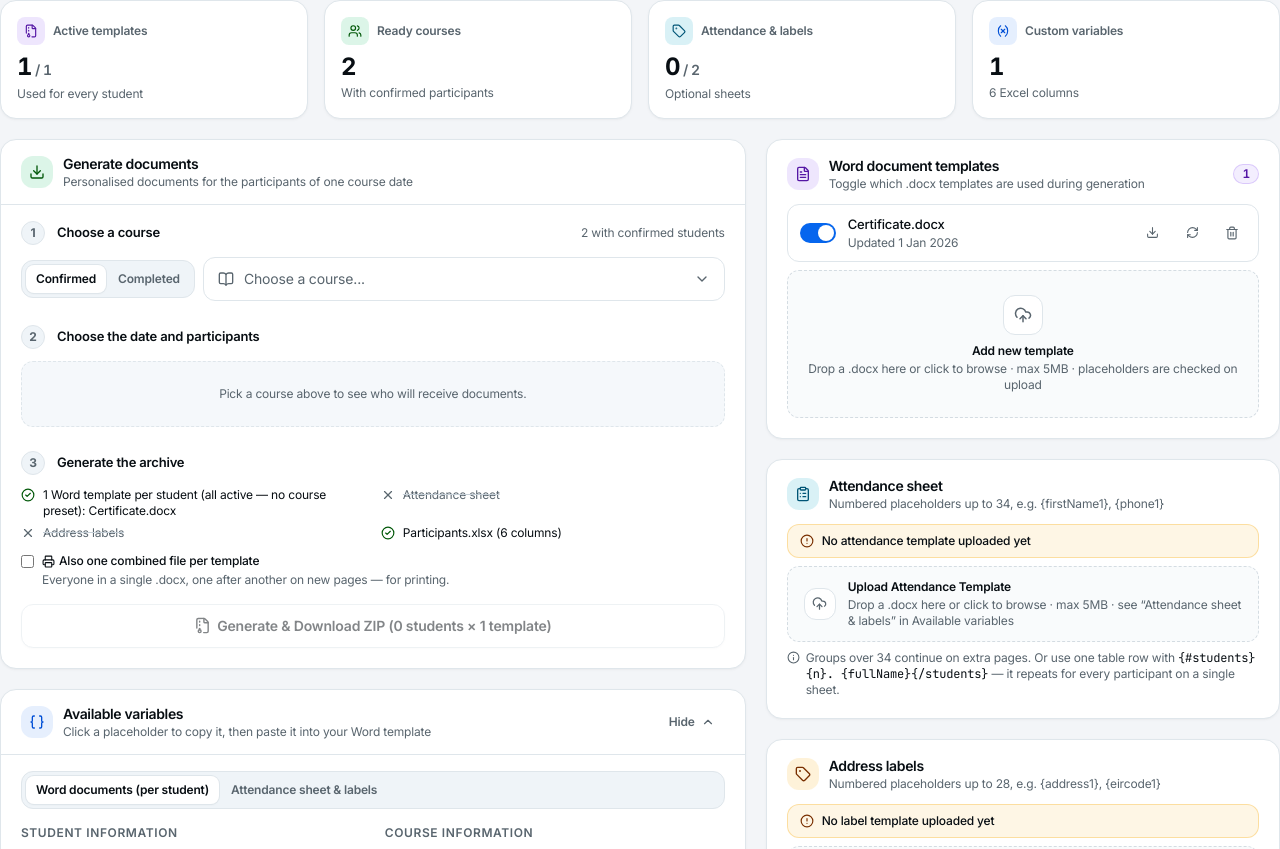
Test: DocumentGenerator › finds a course by typing and picks it with the keyboard
This screenshot has width=1280, height=849.
Click the button "Choose a course...".
click(304, 278)  # box [203,257,725,301]
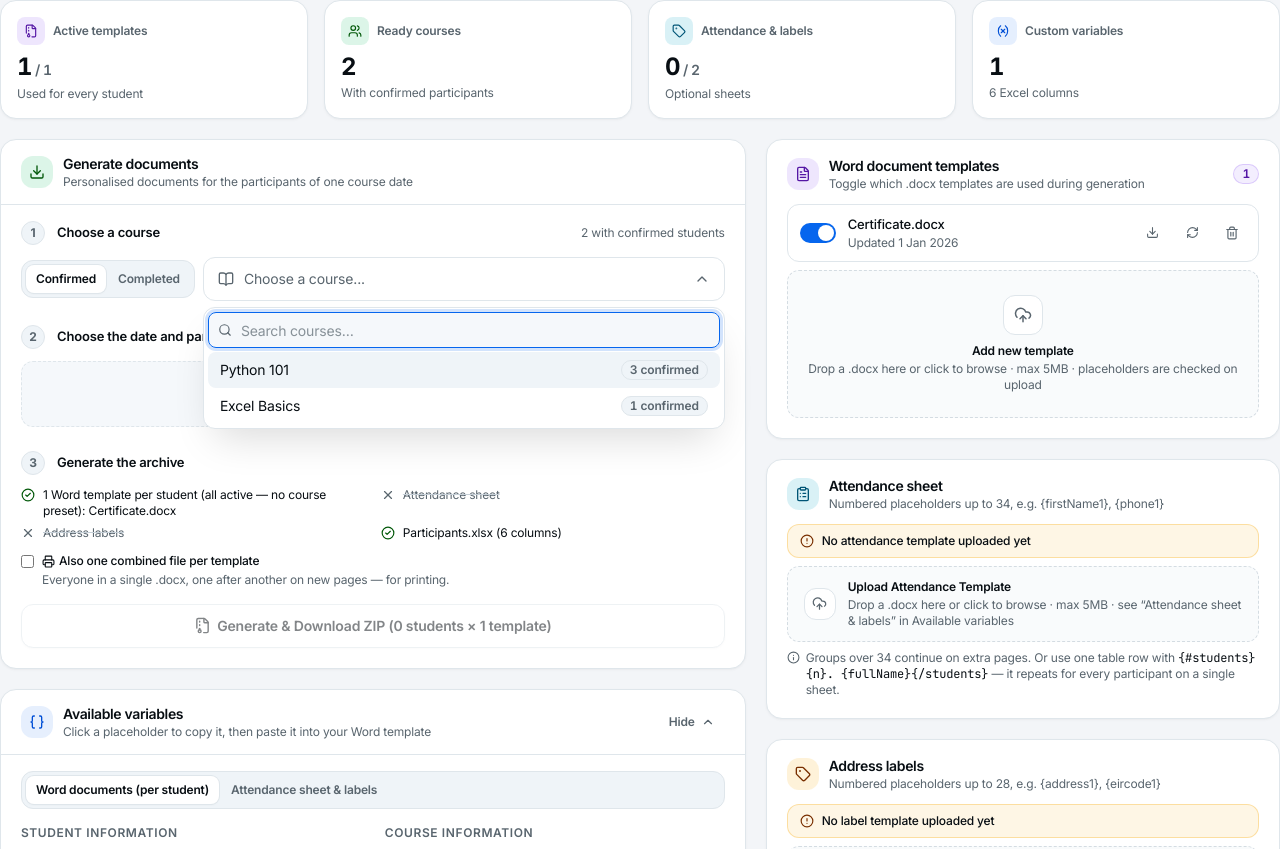
Type "excel" into the dropdown labelled "Search courses".
click(464, 330); type("excel")  # box [208,312,720,348]
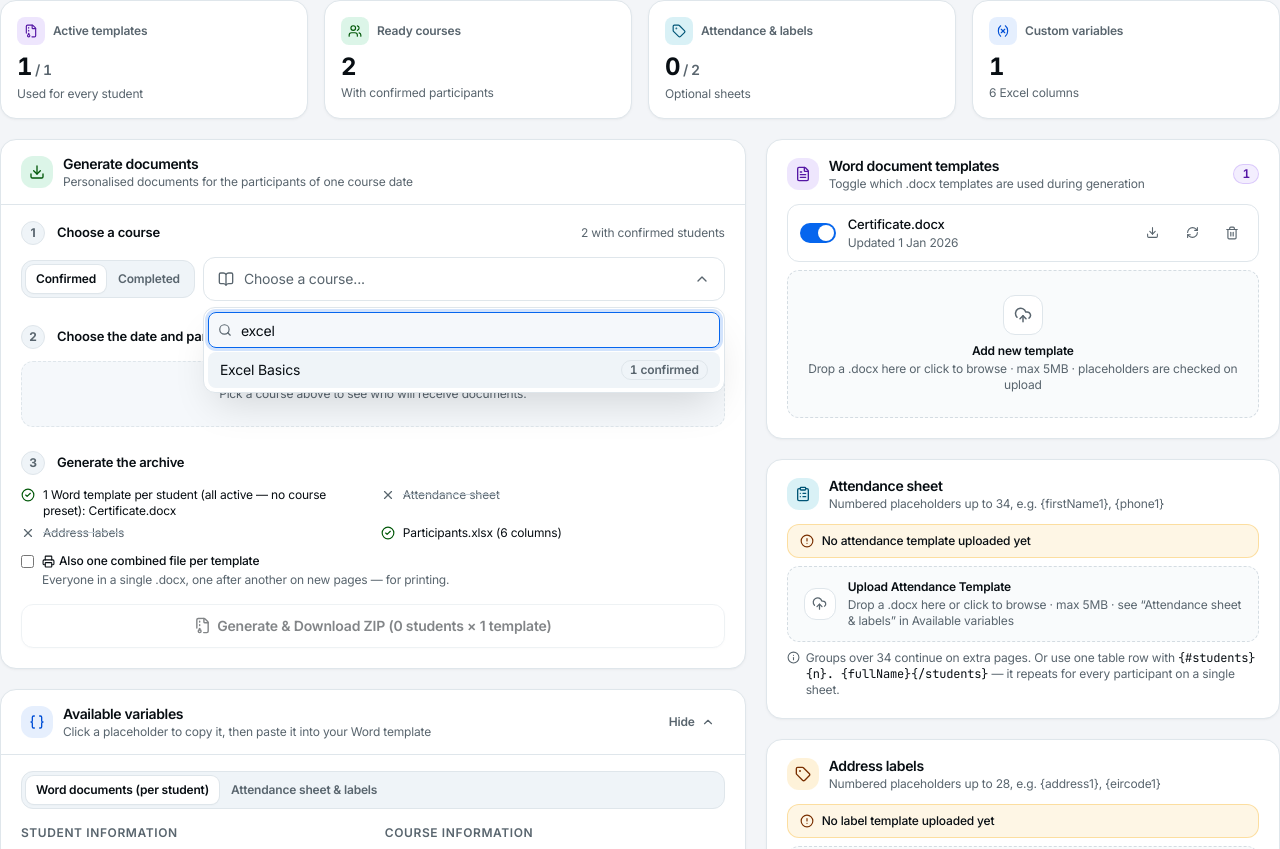
expect the number of options is 1: met, box [208,352,720,388]
Press Enter in the dropdown named "Search courses", box [208,312,720,348]
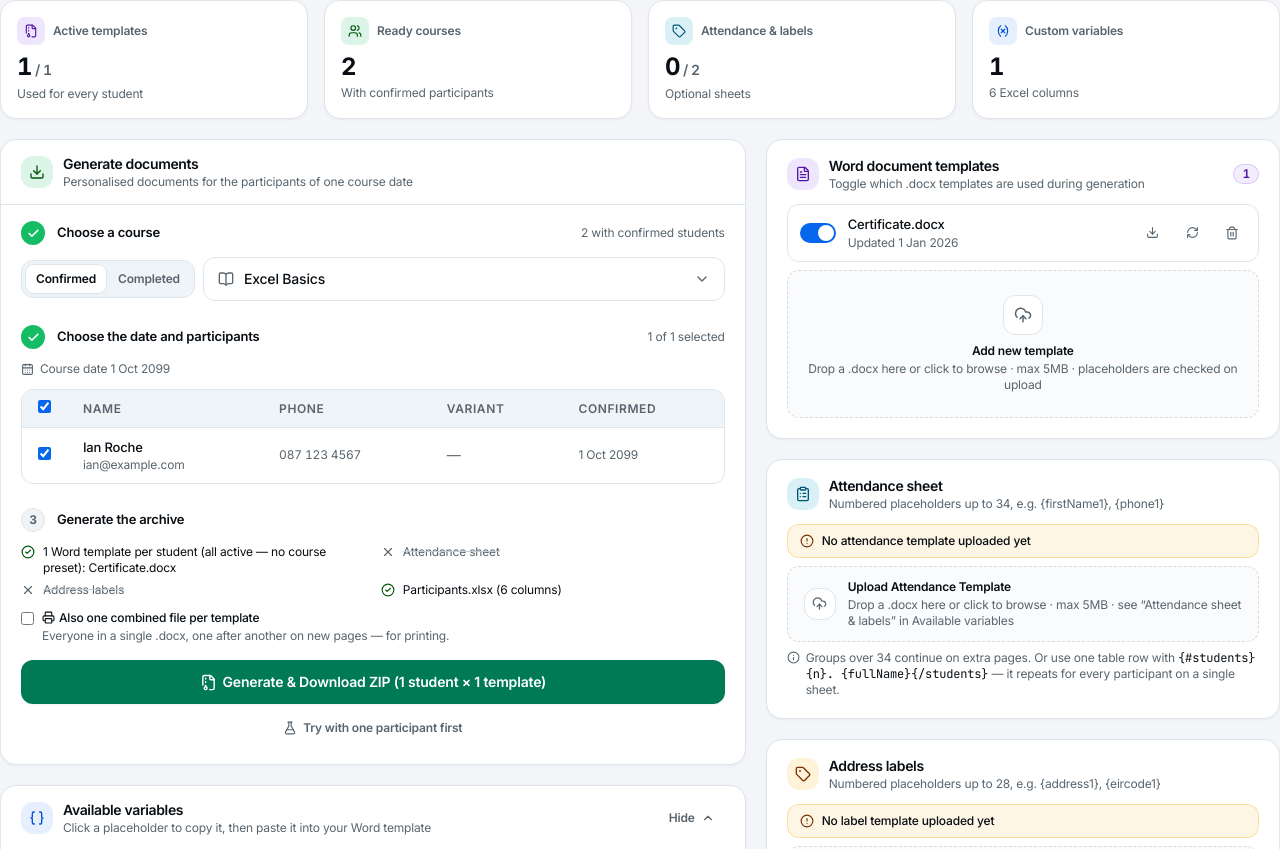
expect the text "Ian Roche" is shown: met, box [83,439,143,455]
